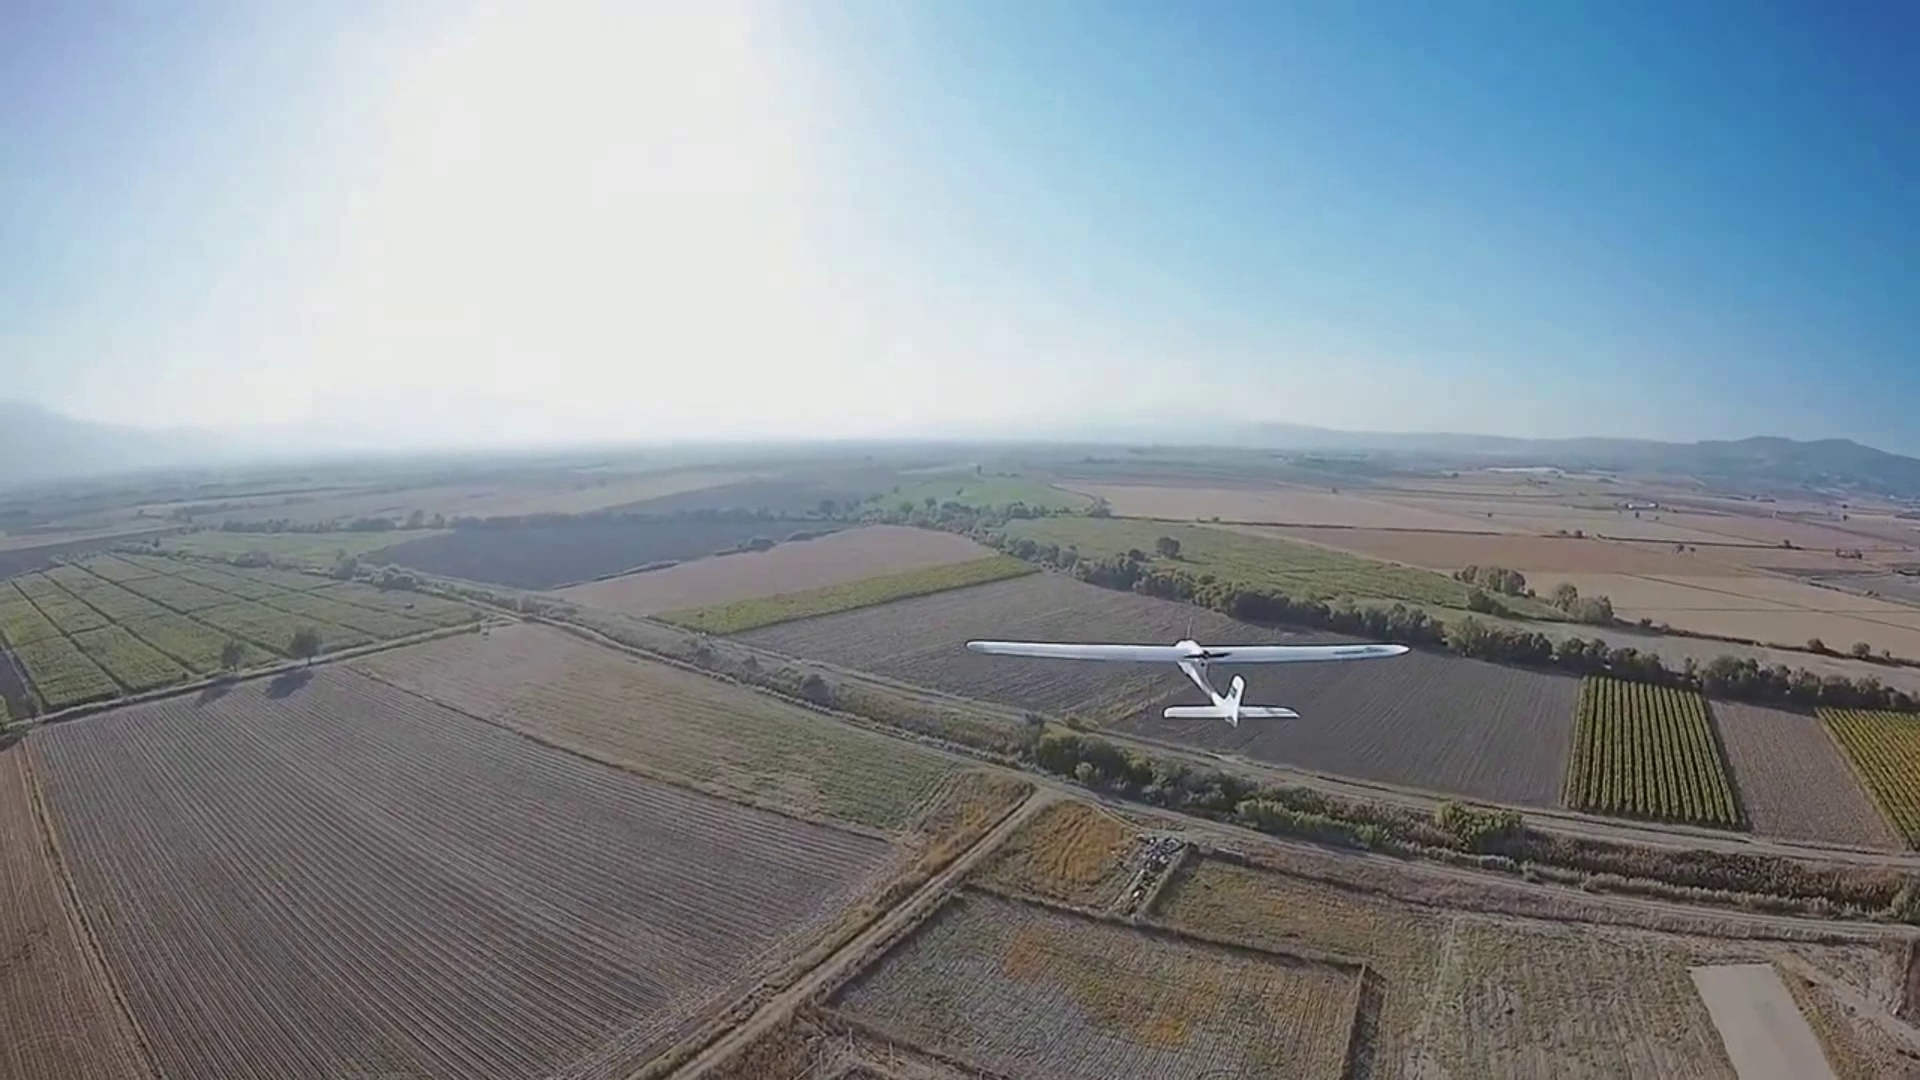airplane: (966, 626, 1412, 723)
